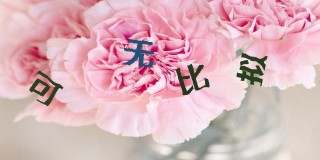可: (28, 71, 64, 107)
拟: (236, 52, 268, 87)
无: (123, 38, 154, 67)
比: (175, 63, 211, 95)
